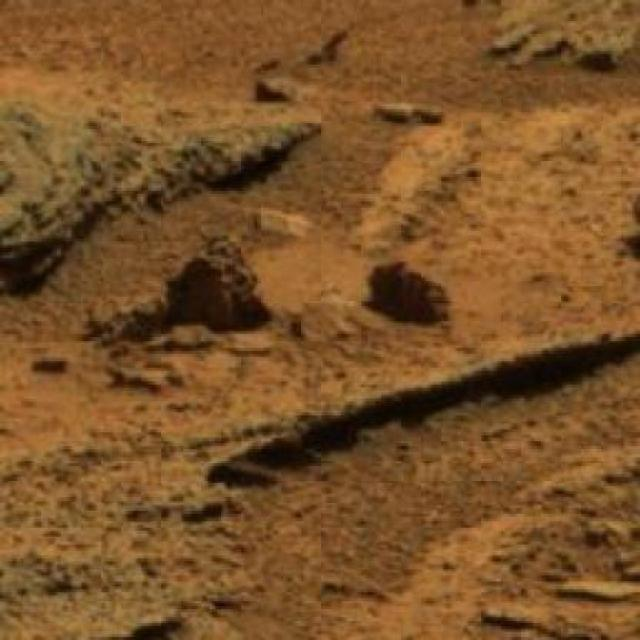rock: (142, 228, 276, 341)
